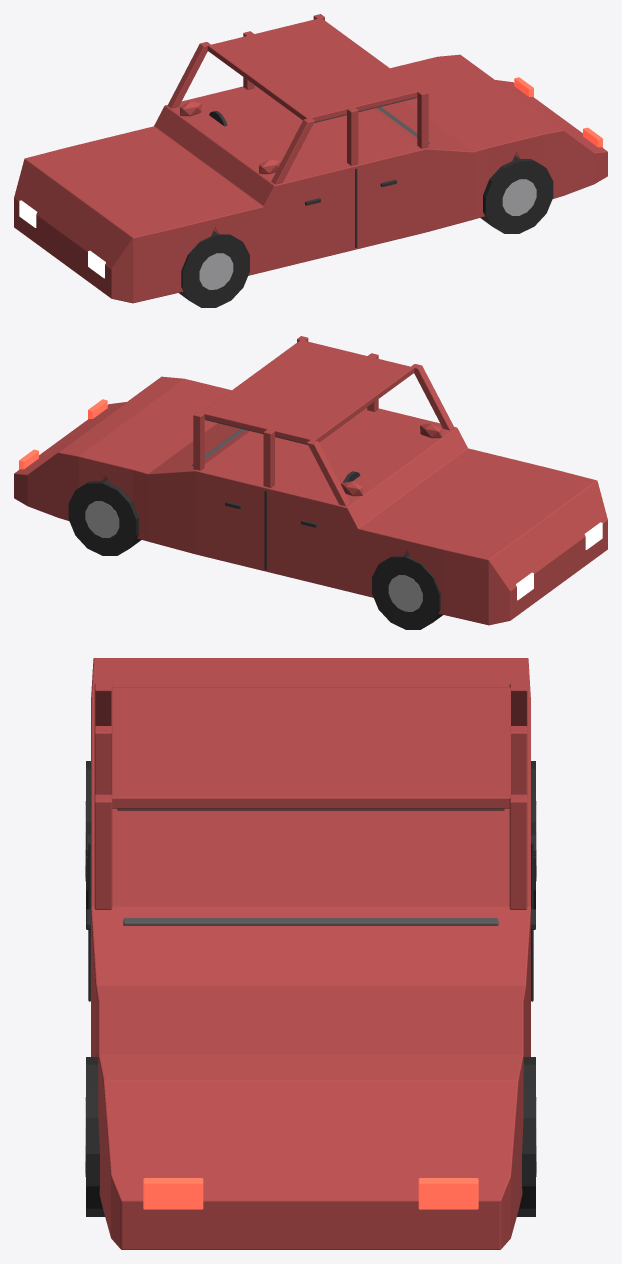
File: car.glb
3 views of the same model, one above another, from view 1: azimuth 30°, elevation 25°; view 2: azimuth 150°, elevation 25°; view 3: azimuth 270°, elevation 25° (orthographic). The views are drawn at different scales.
Parts seen in each view (by area): view 1: car_body, car_wheel_36, car_wheel_32, car_hub_33, car_hub_37; view 2: car_body, car_wheel_38, car_wheel_34, car_hub_35, car_hub_39; view 3: car_body, car_wheel_36, car_wheel_38.
Part boxes in pixels (<box>): car_body: <box>14,14,607,303</box>; car_wheel_36: <box>480,155,553,233</box>; car_wheel_32: <box>179,230,249,307</box>; car_hub_33: <box>199,253,233,289</box>; car_hub_37: <box>502,179,536,215</box>; car_body: <box>14,336,607,625</box>; car_wheel_38: <box>68,477,141,555</box>; car_wheel_34: <box>372,552,442,629</box>; car_hub_35: <box>388,575,422,611</box>; car_hub_39: <box>85,501,119,537</box>; car_body: <box>86,658,535,1249</box>; car_wheel_36: <box>86,1057,104,1216</box>; car_wheel_38: <box>517,1057,535,1216</box>.
Size of the model in its own units: 4.62 by 1.42 by 1.8.
